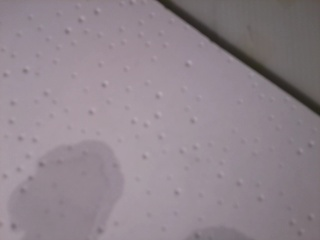Water_detected: (27, 155, 108, 235)
